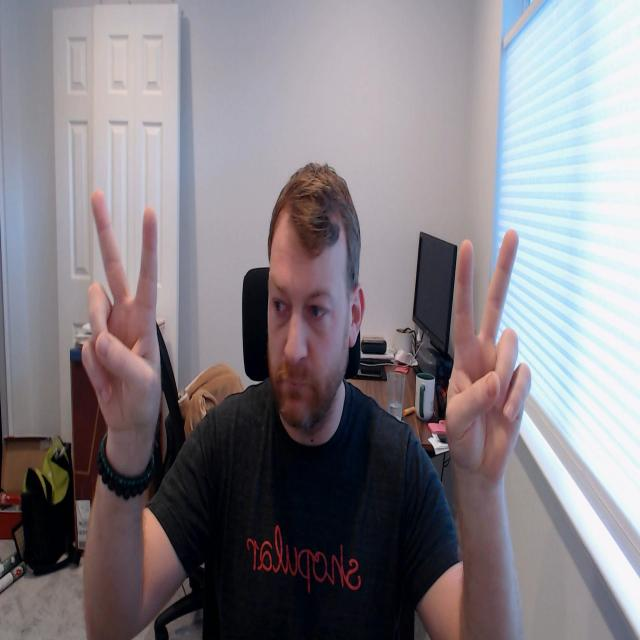face: (266, 212, 354, 435)
